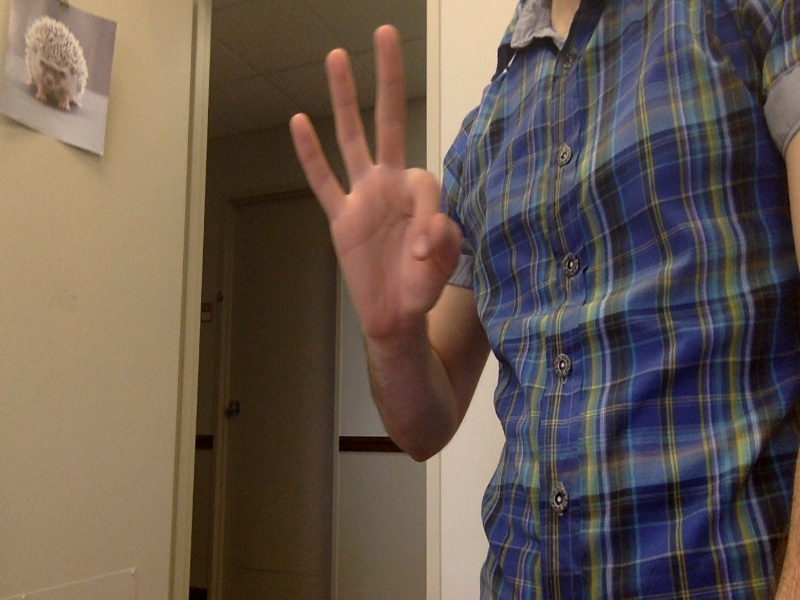3-hand: (290, 24, 459, 335)
